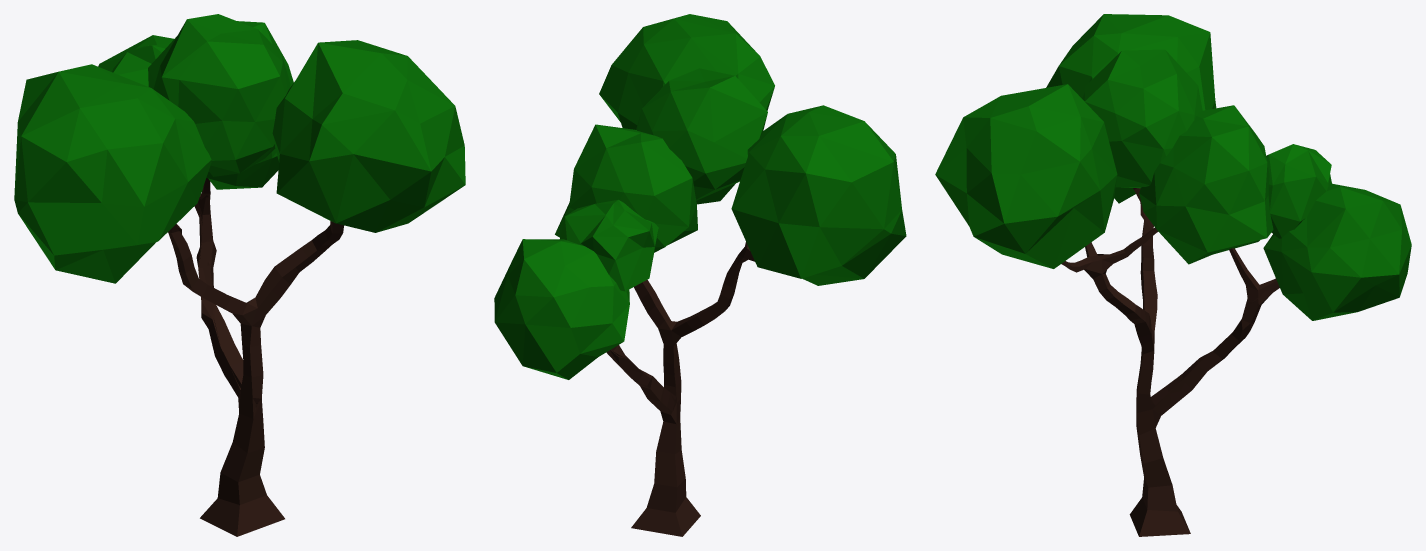
The model's file is Tree2.fbx.
3 renders of one model, left to right at view 1: azimuth 30°, elevation 25°; view 2: azimuth 150°, elevation 25°; view 3: azimuth 270°, elevation 25°, orthographic. The views are drawn at different scales.
Parts seen in each view (by area): view 1: Tree; view 2: Tree; view 3: Tree.
Boxes of the visible parts, x1,y1,x2,y2 form: Tree: (14,14,465,536); Tree: (494,14,906,536); Tree: (935,14,1411,536).
Size of the model in its own units: 377 by 489 by 467.
